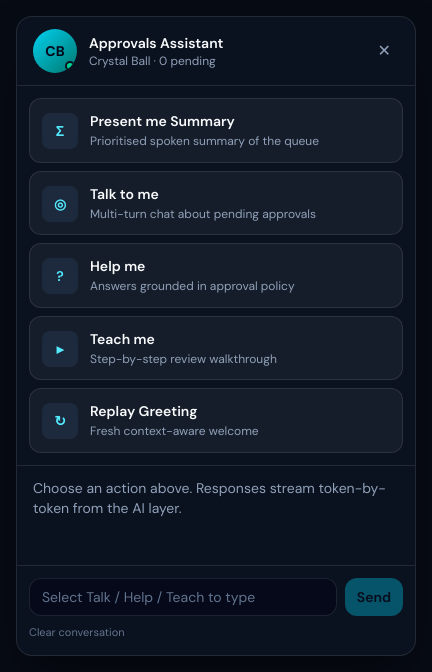
Test: ApprovalsAssistant panel › surfaces an error state when the AI request fails
The width and height of the screenshot is (432, 672).
Step 1. Click the button "Σ Present me Summary Prioritised spoken summary of the queue" → (216, 130), box x1=29 y1=98 x2=403 y2=162
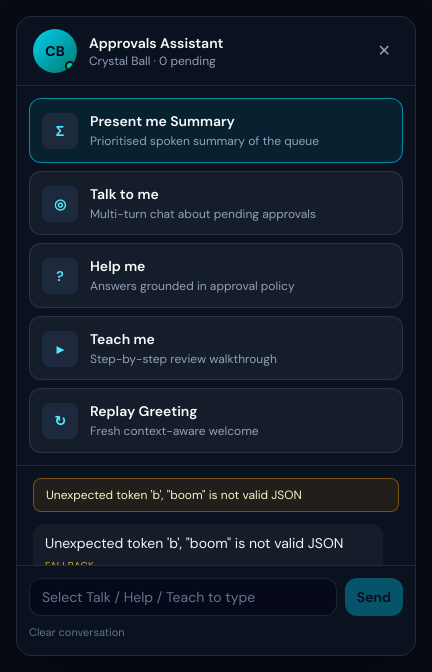
Check: the text "Unexpected token 'b', \"boom\" is not valid JSON" is shown, box x1=33 y1=478 x2=399 y2=512
